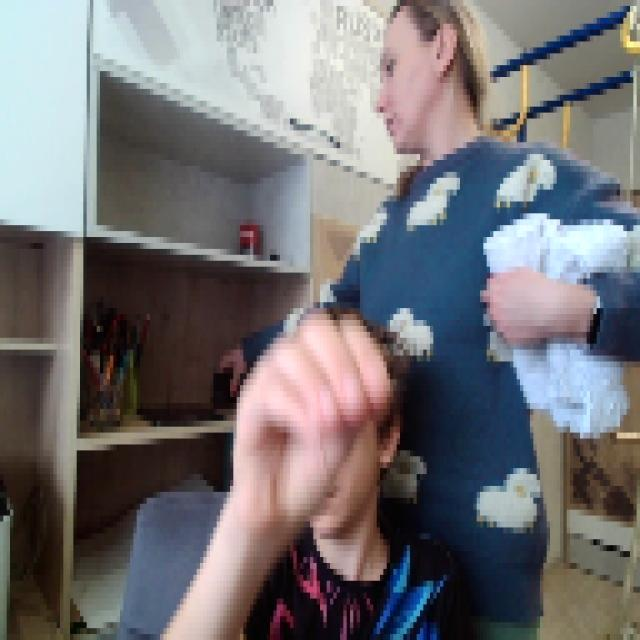left_click: (230, 296, 390, 528)
